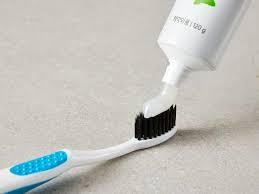toothpaste: (150, 0, 250, 89)
